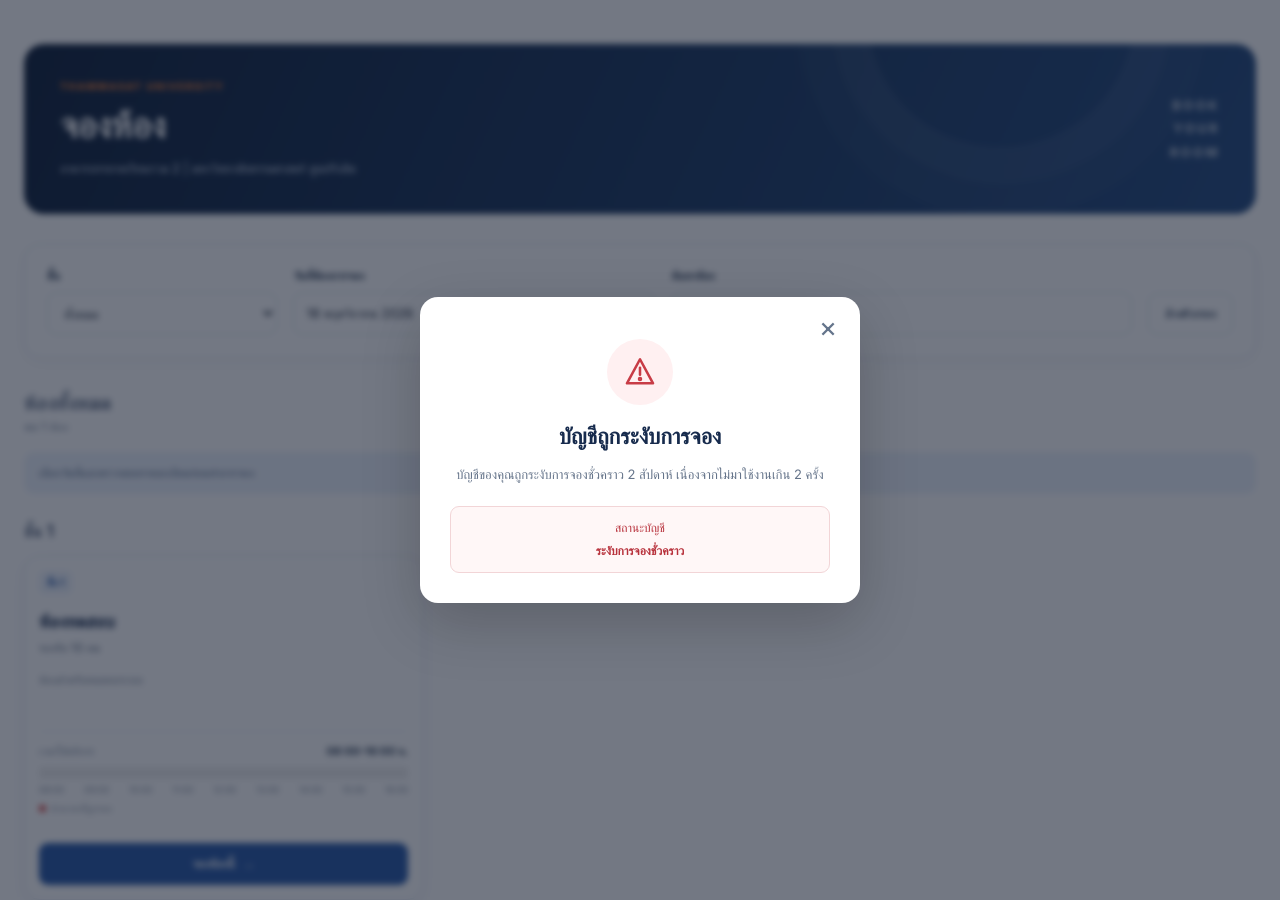
Test: Homepage account suspension popup › กด X ปิด Popup ได้ แต่ยังไม่สามารถจองห้องได้
The width and height of the screenshot is (1280, 900).
Expected: the dialog is shown, [420,297,860,603]
Click the button named "ปิดหน้าต่างแจ้งเตือน": x=828, y=327 [810,309,846,345]
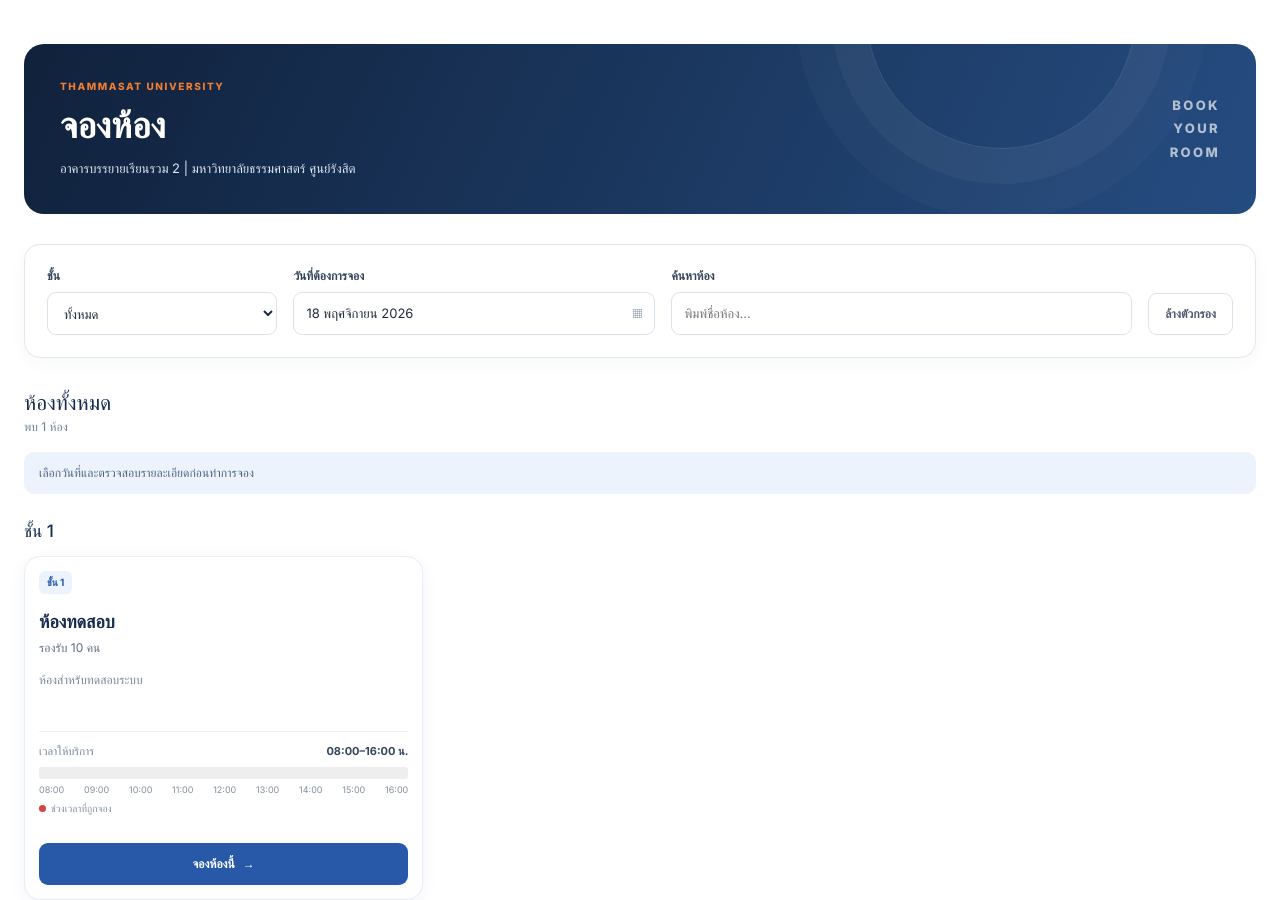
Result: the heading "บัญชีถูกระงับการจอง" is gone
Click the button with class "book-room-button": x=224, y=864 [39,843,408,885]
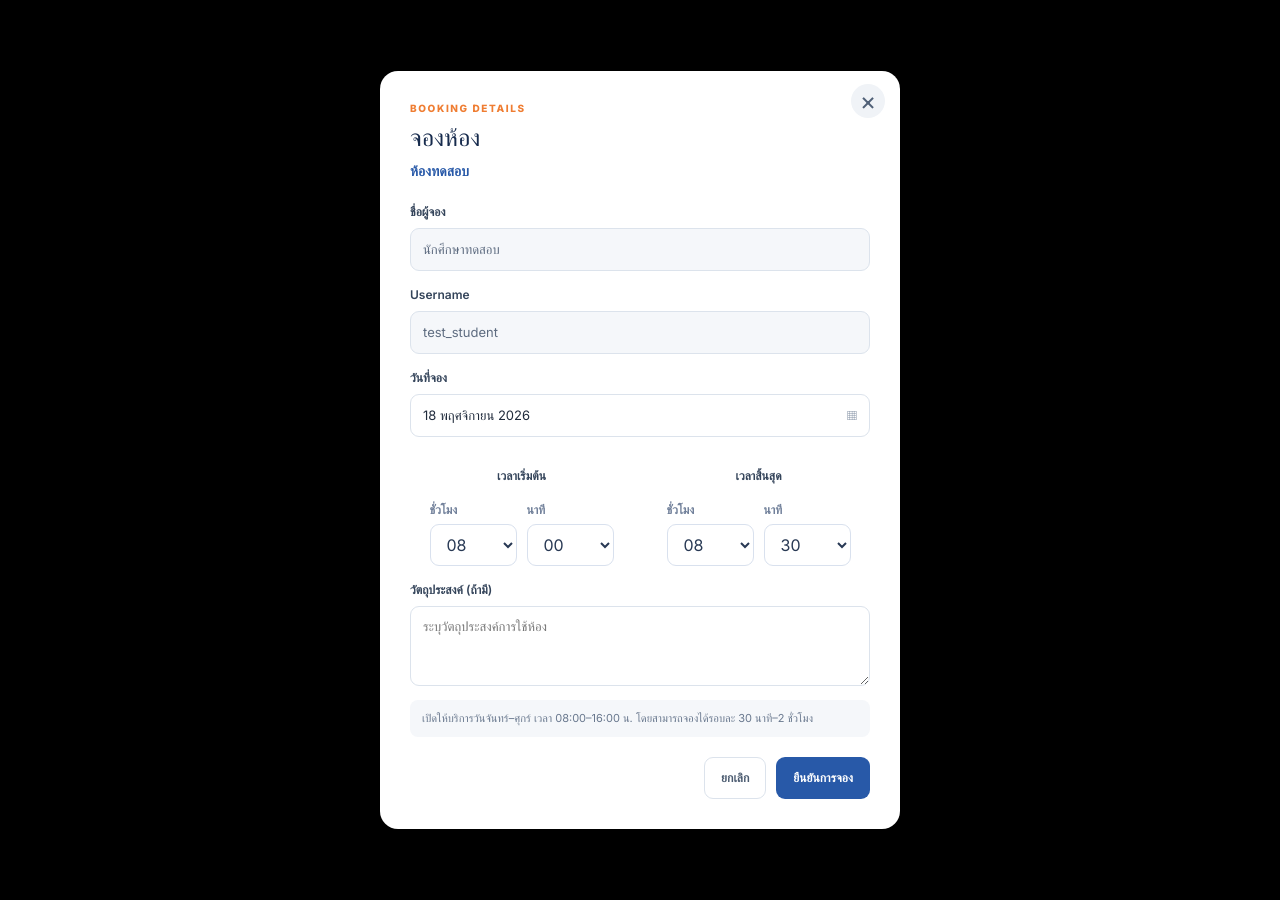
Result: the form with id "bookingForm" is shown
Submit the form with id "bookingForm", box [410,203,870,799]
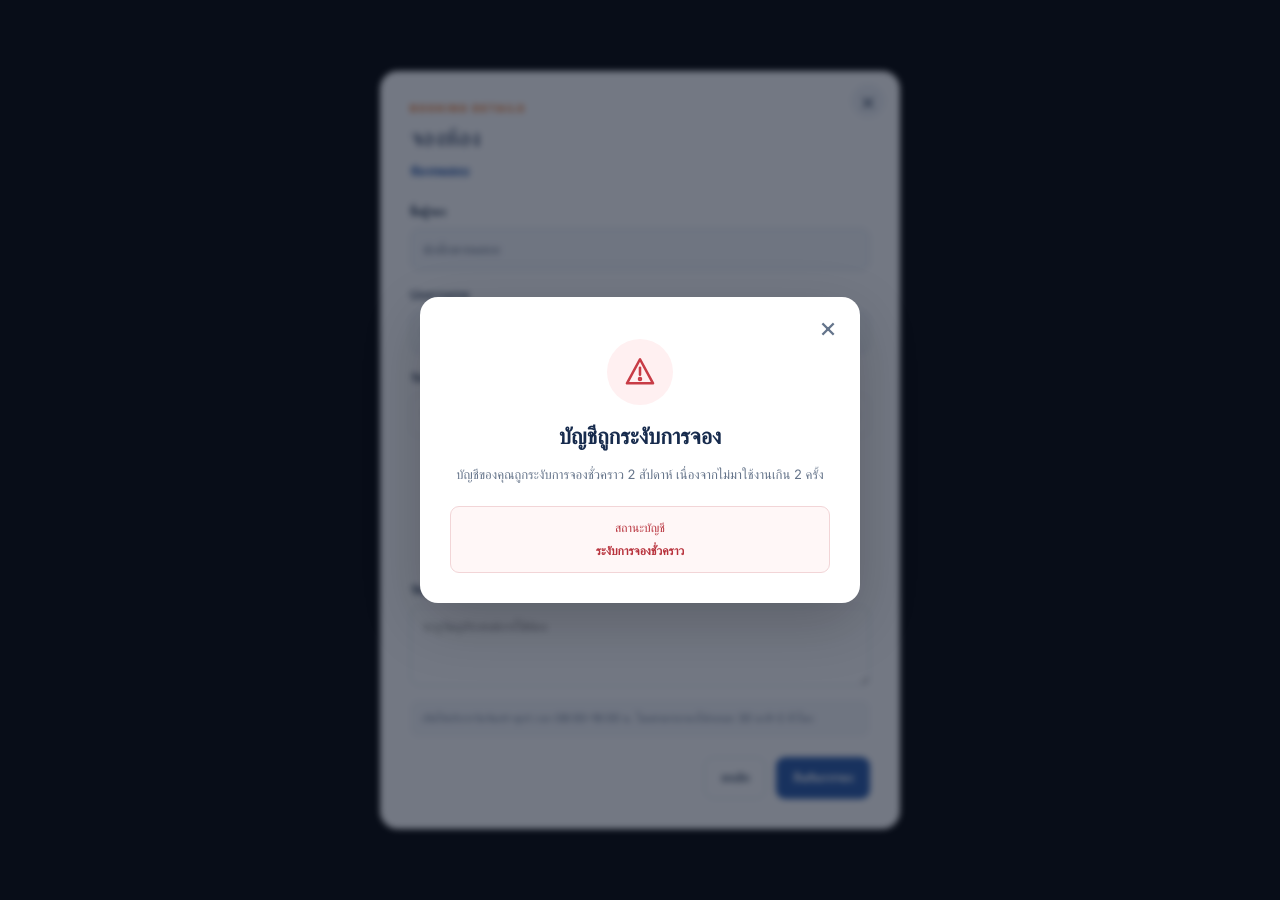
Result: the dialog is shown at [420,297,860,603]
